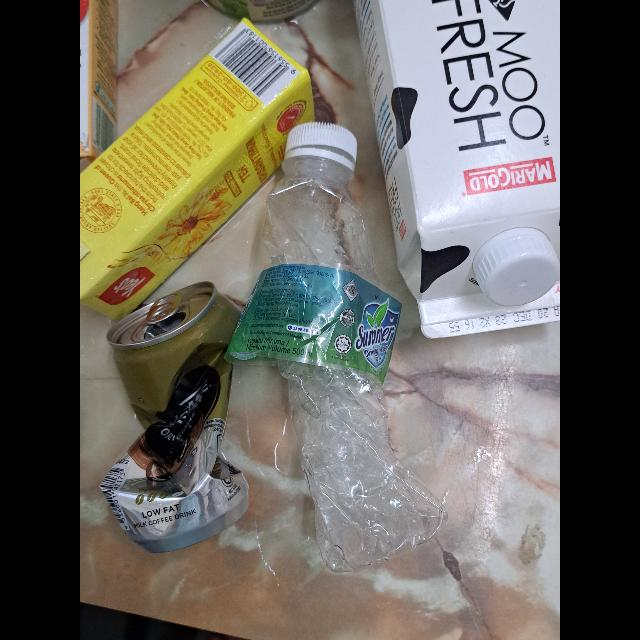aba de lata: (144, 284, 180, 324)
caixinha: (80, 12, 320, 318), (352, 1, 560, 341)
garrafa plástica: (261, 157, 447, 581)
lata: (110, 280, 254, 558)
tampa plástica: (472, 224, 554, 302), (286, 124, 364, 170)
